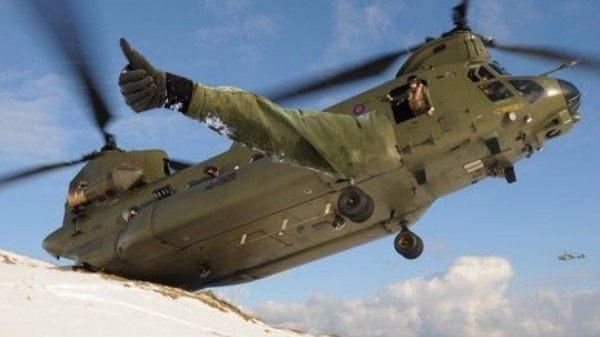airplane: (52, 1, 581, 285)
